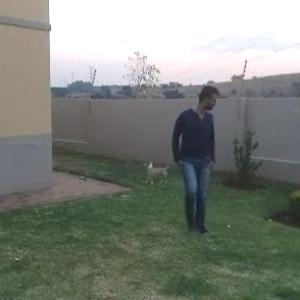follow: (168, 80, 219, 234)
